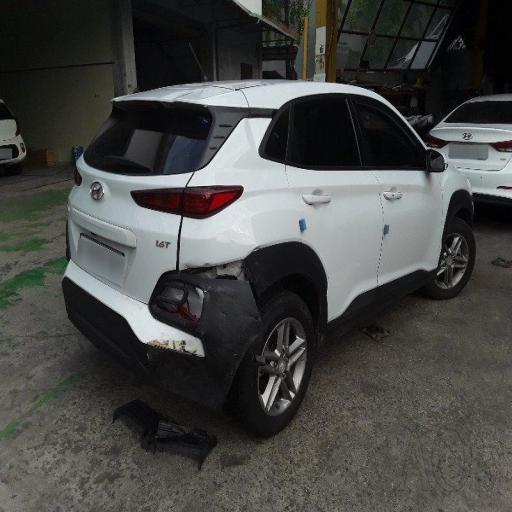broken: (136, 202, 342, 322)
scratch: (132, 320, 209, 370)
